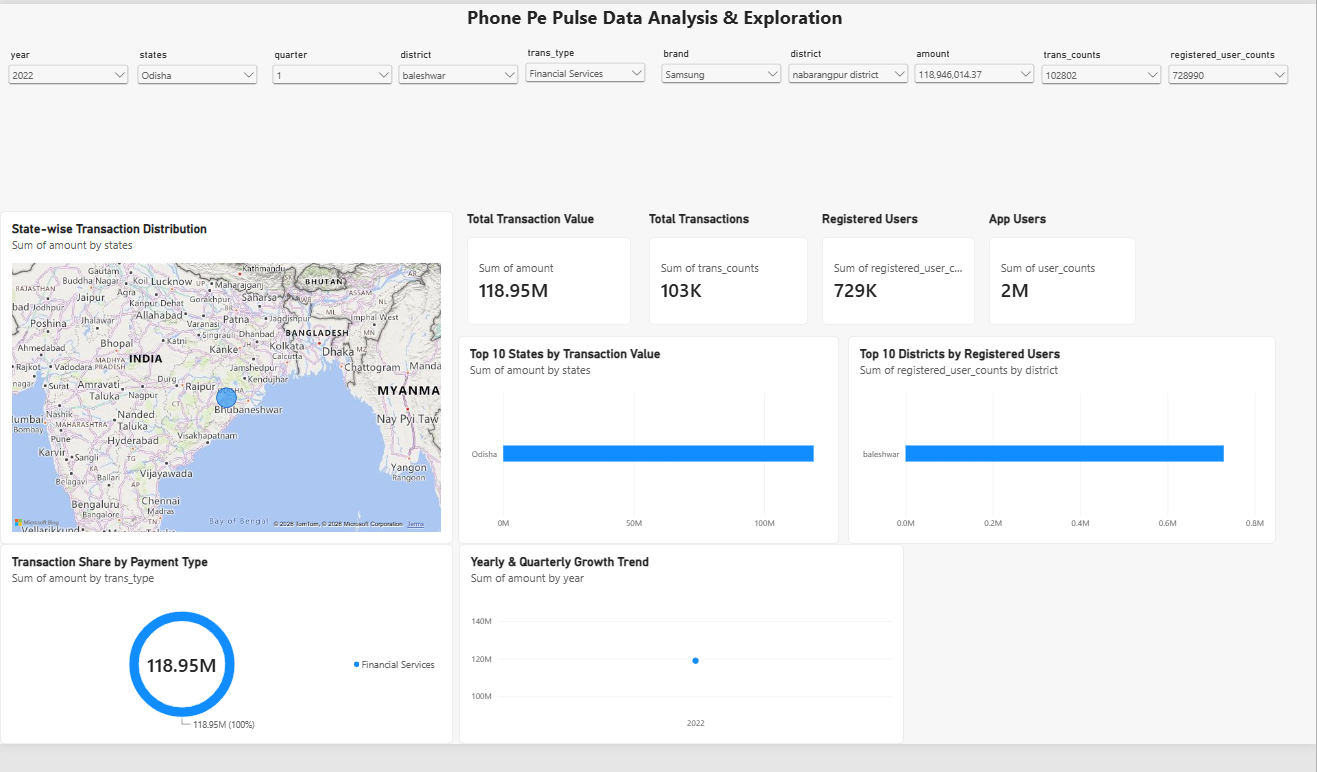

This screenshot's page, from the dashboard's own definition file:
{"tool":"powerbi","page":{"name":"Page 1","canvas":[1920,1080],"ordinal":0},"visuals":[{"type":"slicer","fields":{"Values":["Master_Year.year"]},"box":[7.3,65.7,185.3,185.3],"z":0},{"type":"slicer","fields":{"Values":["Master_State.states"]},"box":[195.1,65.6,185.3,185.3],"z":1000},{"type":"slicer","fields":{"Values":["Master_Quarter.quarter"]},"box":[392,65.6,185.3,185.3],"z":2000},{"type":"slicer","fields":{"Values":["top_user.district"]},"box":[576.8,65,185.3,185.3],"z":3000},{"type":"slicer","fields":{"Values":["aggregated_transaction.trans_type"]},"box":[761.7,62.3,185.3,185.3],"z":4000},{"type":"slicer","fields":{"Values":["aggregated_user.brand"]},"box":[959.9,63.7,185.3,185.3],"z":5000},{"type":"slicer","fields":{"Values":["map_transaction.district"]},"box":[1144.7,63.7,185.3,185.3],"z":6000},{"type":"slicer","fields":{"Values":["aggregated_transaction.amount"]},"box":[1329.6,63.7,185.3,185.3],"z":7000},{"type":"slicer","fields":{"Values":["aggregated_transaction.trans_counts"]},"box":[1514.5,65,185.3,185.3],"z":8000},{"type":"slicer","fields":{"Values":["top_user.registered_user_counts"]},"box":[1699.7,65.7,185.3,185.3],"z":9000},{"type":"map","title":"State-wise Transaction Distribution","fields":{"Category":["Master_State.states"],"Size":["Sum(aggregated_transaction.amount)"]},"box":[0,302,660.9,485.8],"z":10000},{"type":"cardVisual","title":"Total Transaction Value","fields":{"Data":["Sum(aggregated_transaction.amount)"]},"box":[681.3,302,239.4,166.3],"z":11000},{"type":"cardVisual","title":"Total Transactions","fields":{"Data":["Sum(aggregated_transaction.trans_counts)"]},"box":[946.9,302,232.8,166.3],"z":12000},{"type":"cardVisual","title":"Registered Users","fields":{"Data":["Sum(top_user.registered_user_counts)"]},"box":[1199.3,302,223.4,166.3],"z":13000},{"type":"cardVisual","title":"App Users","fields":{"Data":["Sum(aggregated_user.user_counts)"]},"box":[1442.9,302,214.1,166.3],"z":14000},{"type":"barChart","title":"Top 10 States by Transaction Value","fields":{"Category":["Master_State.states"],"Y":["Sum(aggregated_transaction.amount)"]},"box":[668.2,484.4,555.9,303.5],"z":15000},{"type":"barChart","title":"Top 10 Districts by Registered Users","fields":{"Category":["top_user.district"],"Y":["Sum(top_user.registered_user_counts)"]},"box":[1237.2,484.4,624.4,303.5],"z":16000},{"type":"donutChart","title":"Transaction Share by Payment Type","fields":{"Category":["aggregated_transaction.trans_type"],"Y":["Sum(aggregated_transaction.amount)"]},"box":[0,787.8,660.9,291.8],"z":16001},{"type":"lineChart","title":"Yearly & Quarterly Growth Trend","fields":{"Category":["Master_Year.year","Master_Quarter.quarter"],"Y":["Sum(aggregated_transaction.amount)"]},"box":[669.7,787.8,649.2,291.8],"z":16002},{"type":"textbox","box":[1700,302,185,166],"z":16003},{"type":"textbox","box":[681.3,0,571.9,39.4],"z":16011}]}

Visuals, with their boxes on the page's 1920x1080 design canvas (x1, y1, x2, y2). These are canvas units, not pixel positions in the 1317x772 screenshot, which may show the page scaled, cropped or inside an application window:
slicer - Master_Year.year: bbox=(7, 66, 193, 251)
slicer - Master_State.states: bbox=(195, 66, 380, 251)
slicer - Master_Quarter.quarter: bbox=(392, 66, 577, 251)
slicer - top_user.district: bbox=(577, 65, 762, 250)
slicer - aggregated_transaction.trans_type: bbox=(762, 62, 947, 248)
slicer - aggregated_user.brand: bbox=(960, 64, 1145, 249)
slicer - map_transaction.district: bbox=(1145, 64, 1330, 249)
slicer - aggregated_transaction.amount: bbox=(1330, 64, 1515, 249)
slicer - aggregated_transaction.trans_counts: bbox=(1514, 65, 1700, 250)
slicer - top_user.registered_user_counts: bbox=(1700, 66, 1885, 251)
"State-wise Transaction Distribution" map: bbox=(0, 302, 661, 788)
"Total Transaction Value" cardVisual: bbox=(681, 302, 921, 468)
"Total Transactions" cardVisual: bbox=(947, 302, 1180, 468)
"Registered Users" cardVisual: bbox=(1199, 302, 1423, 468)
"App Users" cardVisual: bbox=(1443, 302, 1657, 468)
"Top 10 States by Transaction Value" barChart: bbox=(668, 484, 1224, 788)
"Top 10 Districts by Registered Users" barChart: bbox=(1237, 484, 1862, 788)
"Transaction Share by Payment Type" donutChart: bbox=(0, 788, 661, 1080)
"Yearly & Quarterly Growth Trend" lineChart: bbox=(670, 788, 1319, 1080)
textbox: bbox=(1700, 302, 1885, 468)
textbox: bbox=(681, 0, 1253, 39)
